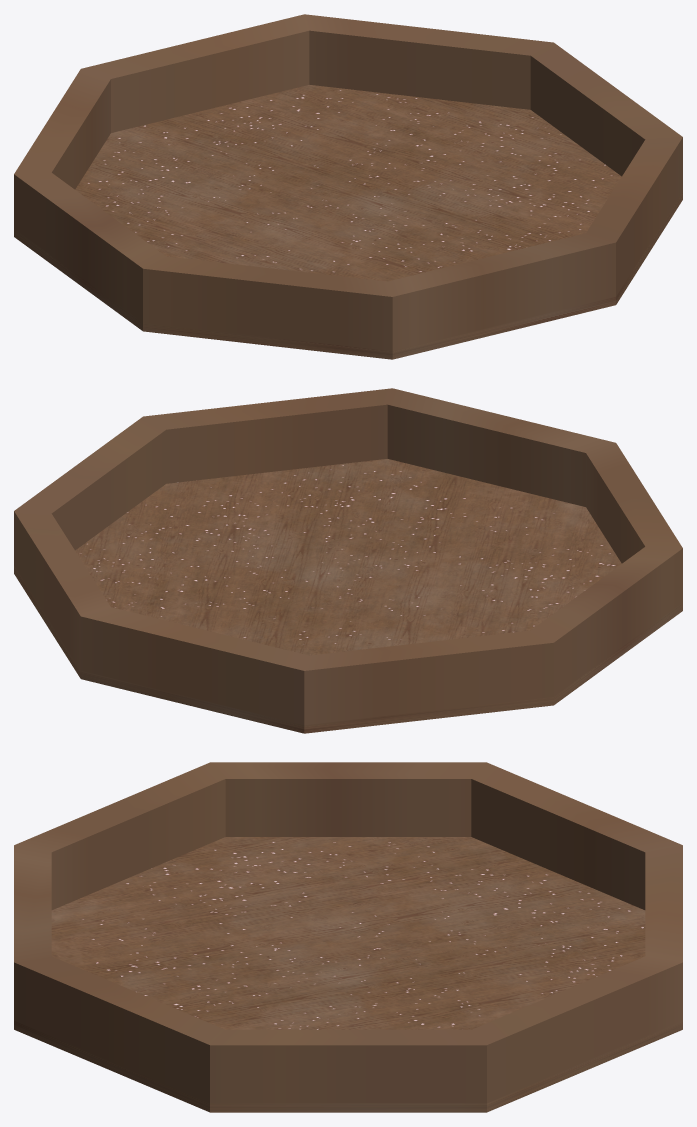
The model's file is stage.fbx.
3 views of the same model, one above another, from view 1: azimuth 30°, elevation 25°; view 2: azimuth 150°, elevation 25°; view 3: azimuth 270°, elevation 25° (orthographic). The views are drawn at different scales.
Visible parts, largest first — view 1: yuka, wall5, wall4, wall1, wall, wall6, wall2, wall3, wall7; view 2: yuka, wall7, wall, wall3, wall4, wall6, wall2, wall1, wall5; view 3: yuka, wall2, wall6, wall3, wall1, wall5, wall7, wall, wall4.
Part boxes in pixels (x1,y1,x2,y2): yuka: [75, 85, 621, 281]; wall5: [143, 256, 392, 359]; wall4: [388, 233, 615, 359]; wall1: [304, 14, 553, 109]; wall: [81, 14, 309, 132]; wall6: [14, 172, 165, 330]; wall2: [530, 42, 682, 176]; wall3: [586, 137, 682, 304]; wall7: [14, 69, 110, 189]; yuka: [75, 459, 621, 655]; wall7: [304, 630, 553, 733]; wall: [80, 607, 308, 733]; wall3: [143, 388, 392, 483]; wall4: [387, 388, 615, 506]; wall6: [531, 546, 682, 704]; wall2: [14, 416, 166, 550]; wall1: [14, 511, 110, 678]; wall5: [586, 443, 682, 563]; yuka: [51, 837, 645, 1029]; wall2: [210, 1029, 486, 1112]; wall6: [210, 762, 486, 836]; wall3: [14, 956, 224, 1112]; wall1: [471, 956, 682, 1112]; wall5: [14, 762, 225, 909]; wall7: [471, 762, 682, 909]; wall: [645, 845, 682, 962]; wall4: [14, 845, 51, 962].
Size of the model in its own units: 26.68 by 2.96 by 26.68.
Materials: 1 (1 with a texture image).
